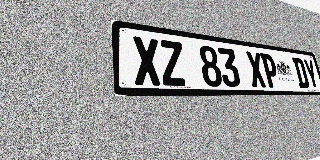3: (217, 47, 241, 87)
8: (198, 45, 223, 87)
D: (292, 57, 310, 88)
P: (260, 53, 281, 88)
X: (132, 36, 162, 86), (245, 51, 267, 88)
Y: (302, 59, 320, 88)
Z: (158, 39, 187, 86)
